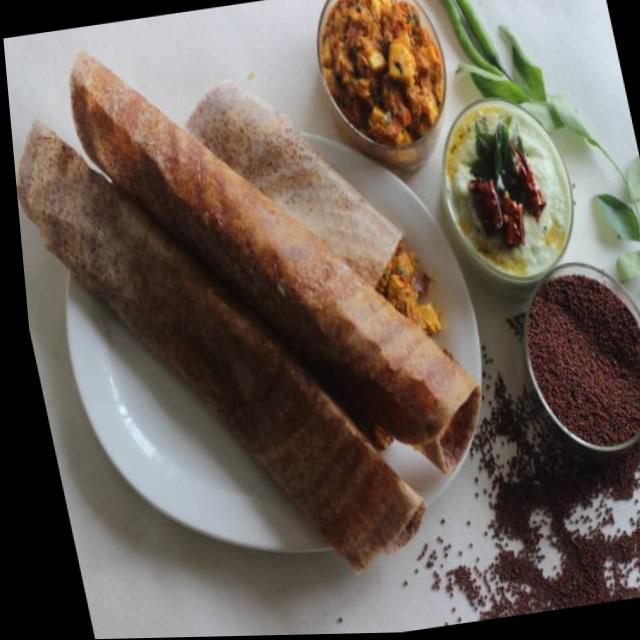CURD: (447, 111, 563, 266)
CURRY: (322, 0, 442, 140)
DOSA: (17, 47, 477, 565)
